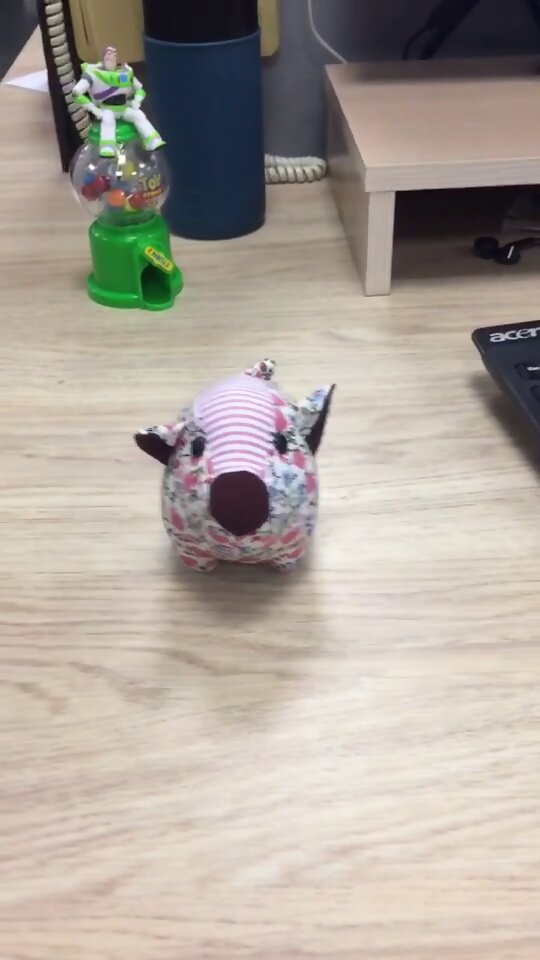pig: (132, 359, 337, 580)
